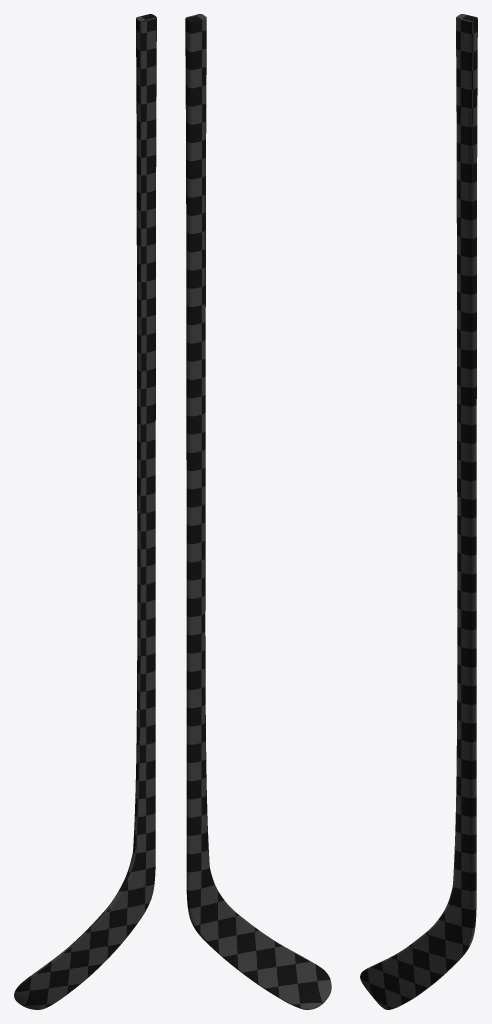
The model's file is P110-SBO.glb.
The picture shows the model from 3 angles, left to right: view 1: azimuth 30°, elevation 25°; view 2: azimuth 210°, elevation 25°; view 3: azimuth 330°, elevation 25°; orthographic projection. The views are drawn at different scales.
Parts seen in each view (by area): view 1: geometry_0; view 2: geometry_0; view 3: geometry_0.
Part boxes in pixels (x1,y1,x2,y2): geometry_0: (14, 14, 156, 1009); geometry_0: (185, 14, 331, 1009); geometry_0: (360, 14, 477, 1009).
Bounding box in the file's own units: 220 × 1650 × 66.55.
1 material, 1 textured.
